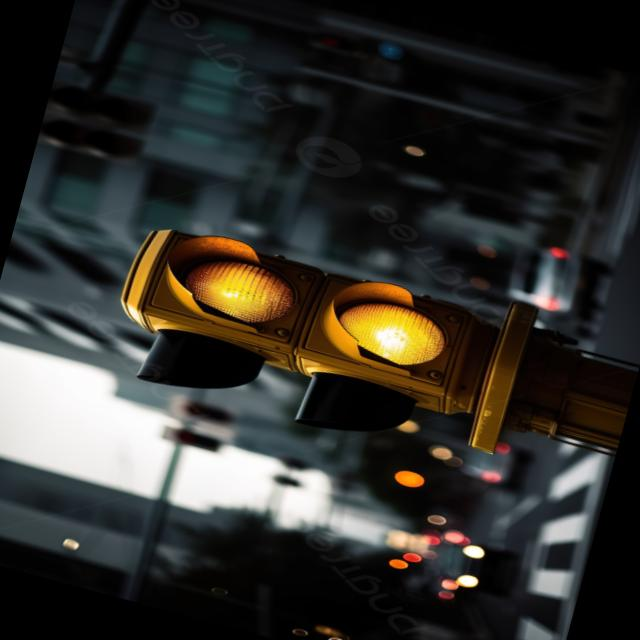yellow-lights: (167, 243, 303, 333), (328, 289, 452, 374)
